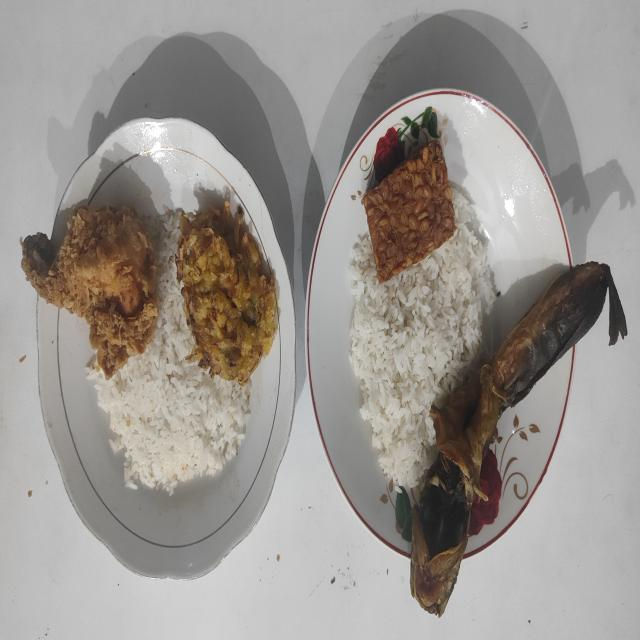nasi_putih: (87, 208, 250, 494), (350, 190, 496, 488)
tempe_goreng: (362, 140, 456, 282)
